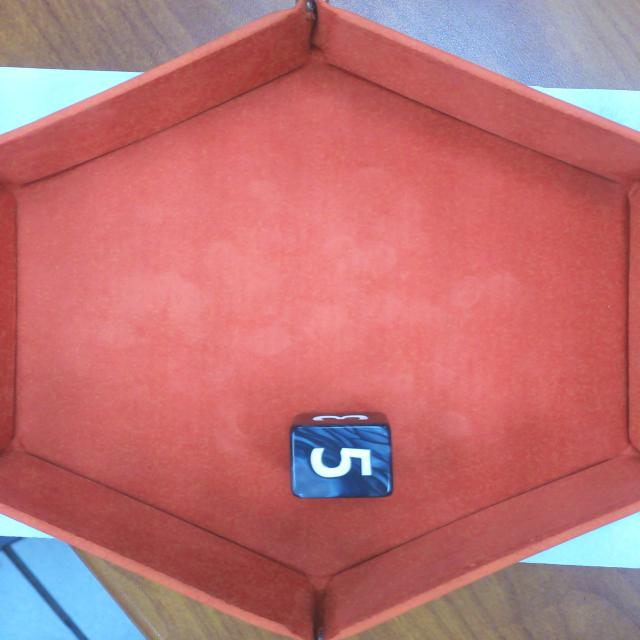dice: (287, 422, 395, 501)
